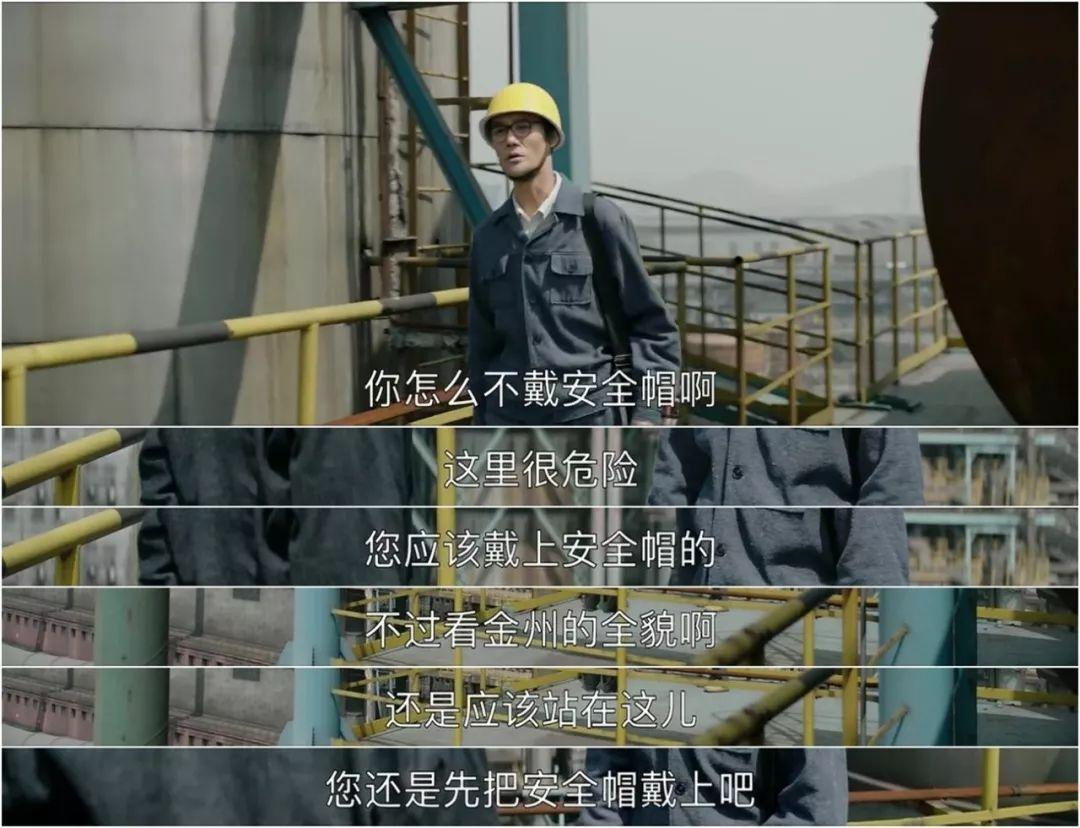helmet: (486, 84, 568, 143)
